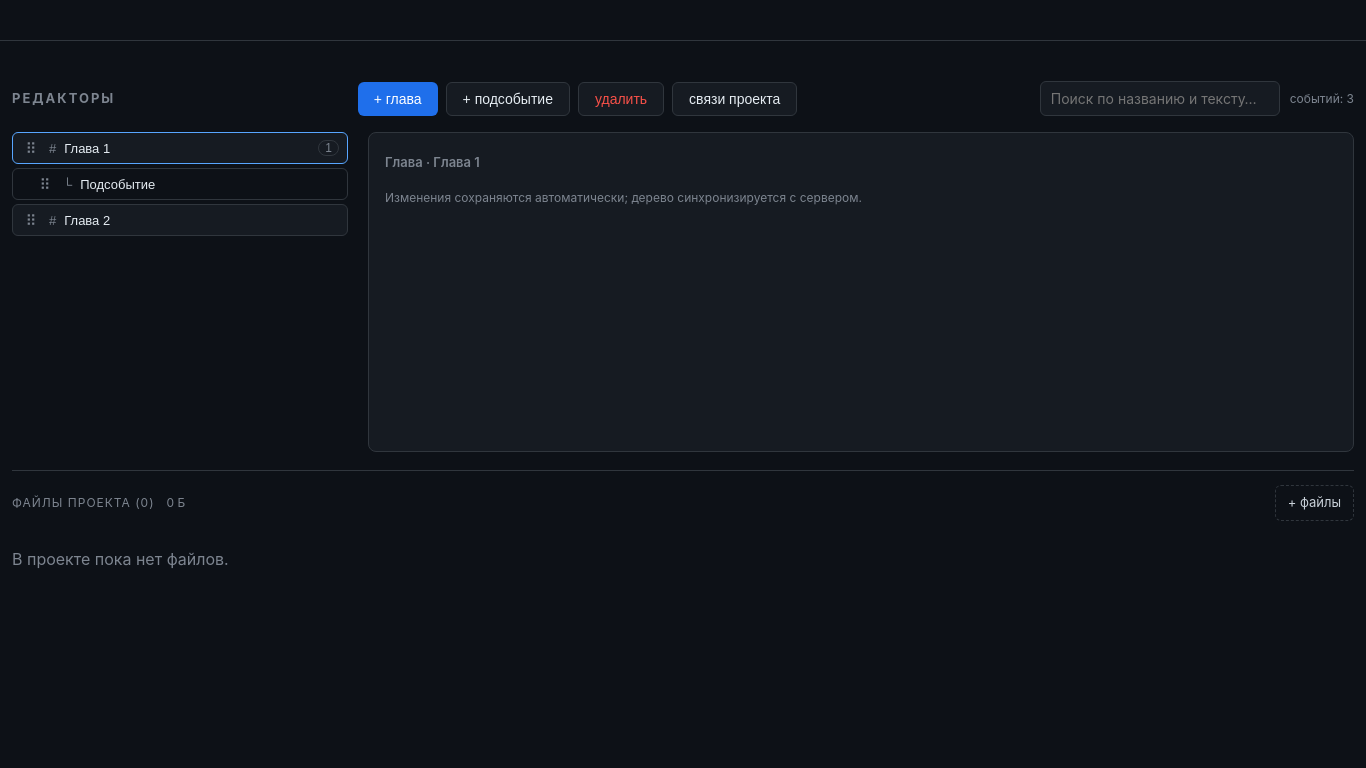
Test: EditorsPanel — поиск по тексту проекта › очистка запроса возвращает весь список
Type "маяк" into the field named "Поиск по проекту".
click(1160, 98); type("маяк")  # box [1040,81,1280,116]
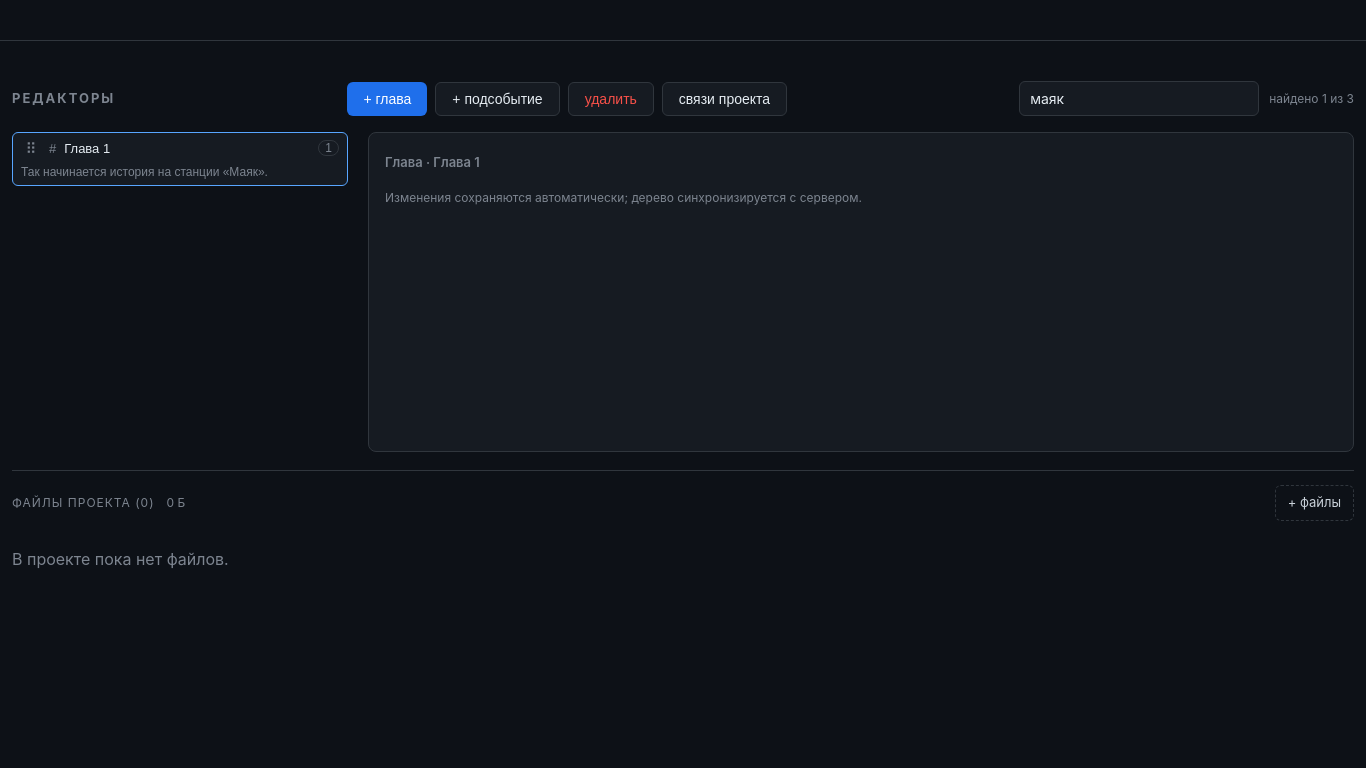
Clear the field named "Поиск по проекту" at [1139, 98], box [1019,81,1259,116]
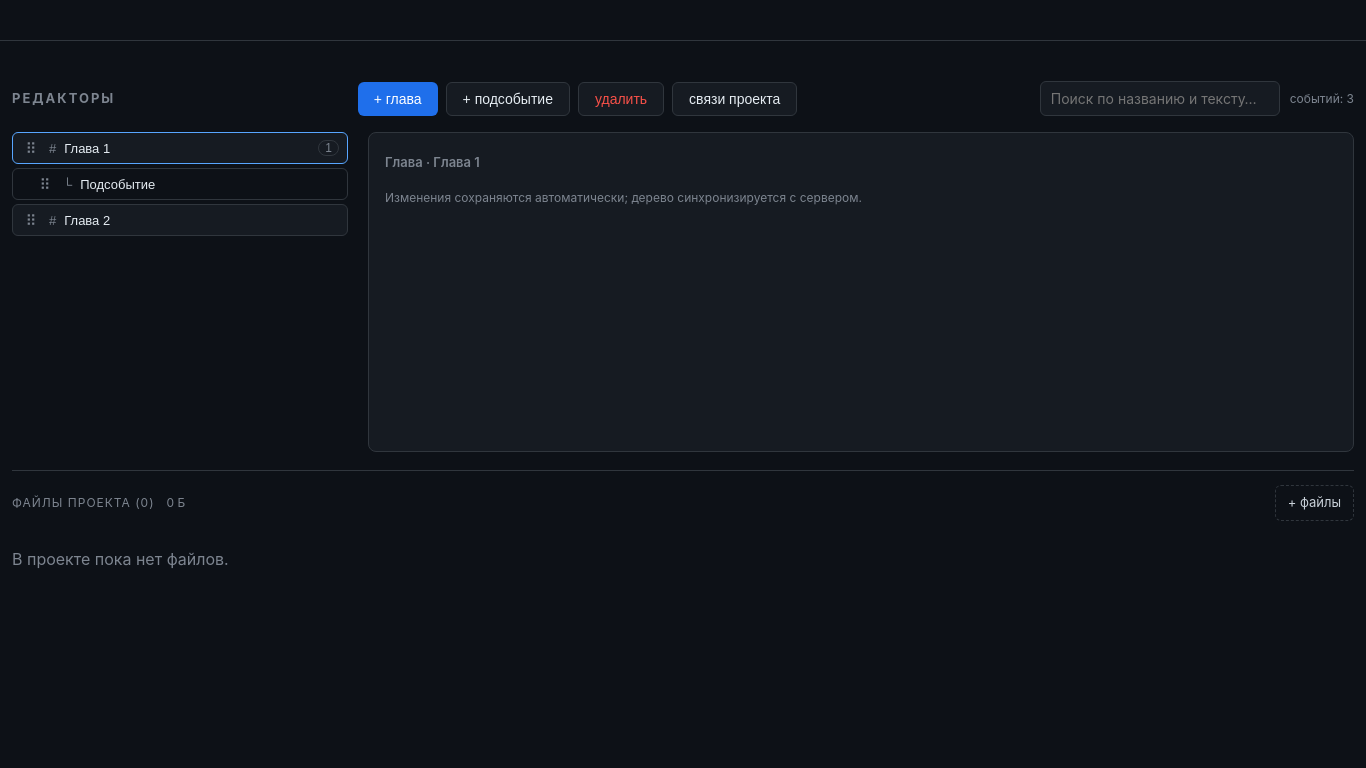
Now the text "событий: 3" is shown, box [1290,90,1354,108]
